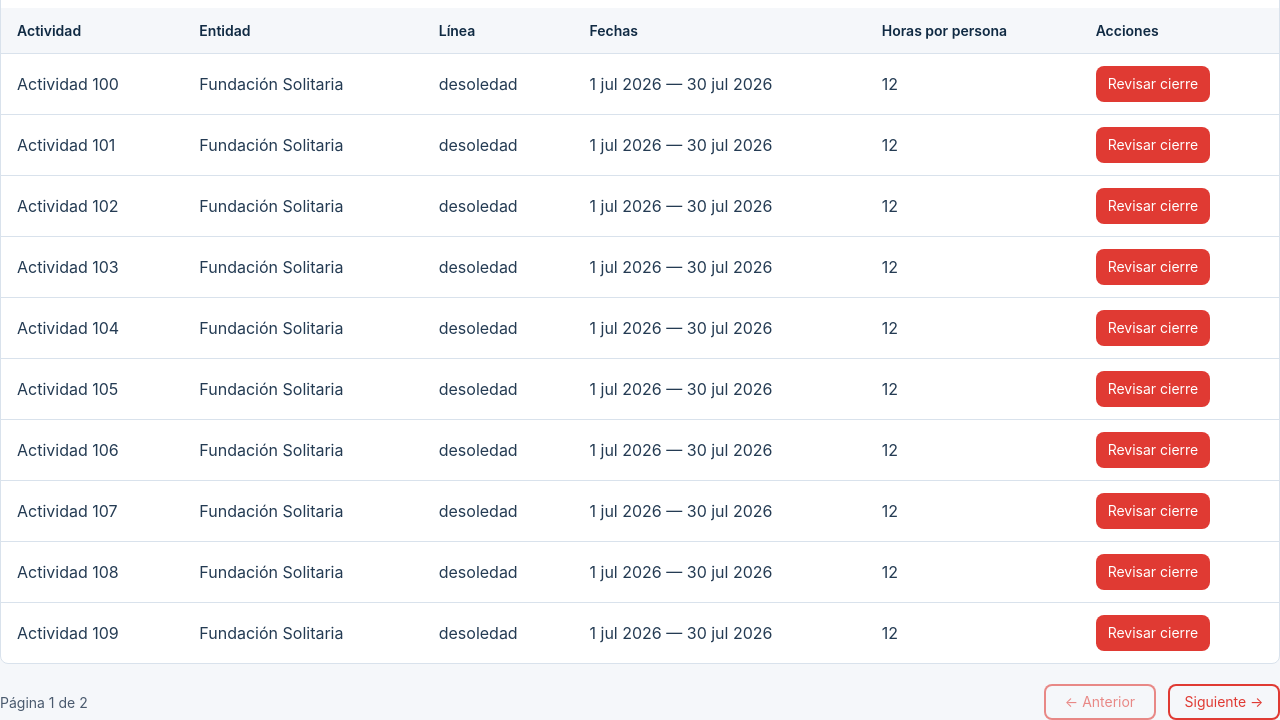
Test: PendingClosurePage › paginates following the backend page order without reordering
This screenshot has width=1280, height=720.
(page scrolled)
Expected: the text "Actividad 100" is shown, [1,54,183,115]
Expected: the text "Actividad página dos" is not shown
Click the button "Siguiente →" at point(1224, 702), box [1168,684,1279,719]
(page scrolled)
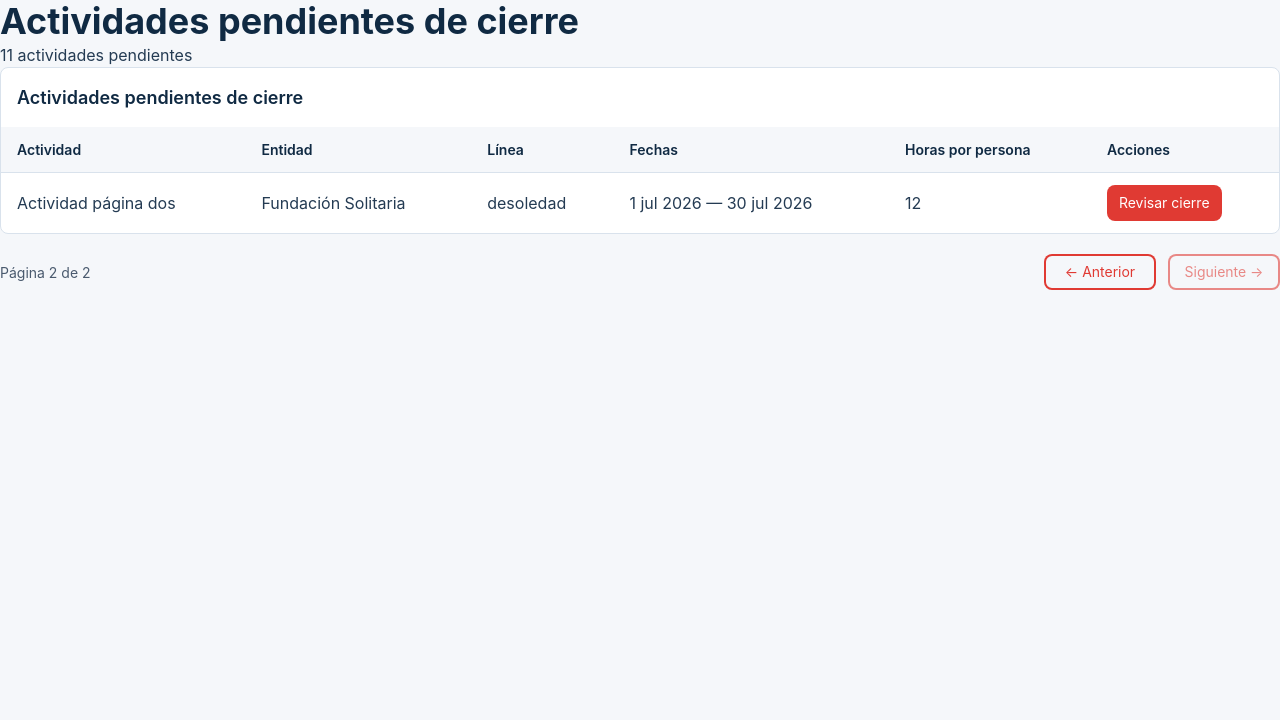
Now the text "Actividad página dos" is shown, box [1,173,245,233]
Now the text "Página 2 de 2" is shown, box [0,262,91,283]
